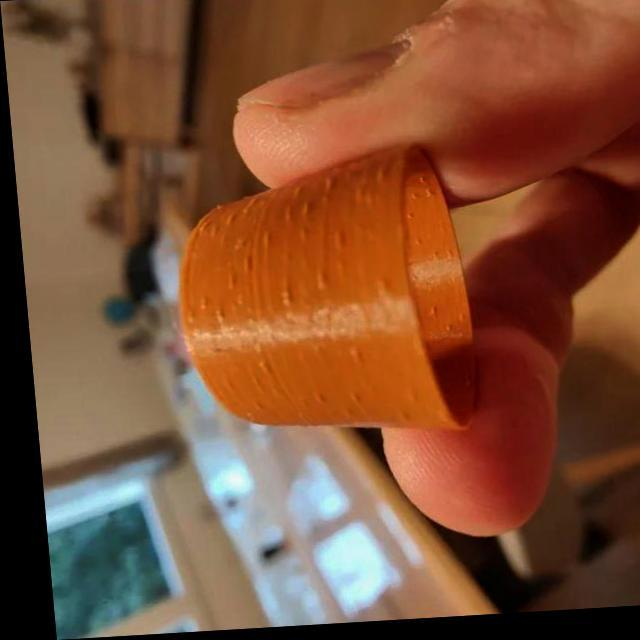zits: (389, 406, 409, 431), (306, 270, 325, 295), (188, 294, 206, 318), (272, 288, 288, 314), (203, 304, 220, 326), (216, 272, 232, 294), (256, 230, 270, 255), (338, 392, 356, 411), (316, 180, 333, 200), (328, 230, 343, 252), (337, 347, 356, 364), (303, 395, 322, 410), (288, 226, 304, 243), (252, 358, 264, 379), (420, 307, 434, 323), (407, 237, 420, 254), (434, 324, 448, 339), (401, 210, 412, 228), (238, 258, 252, 272), (298, 205, 309, 222), (405, 190, 414, 208), (418, 190, 431, 202)
